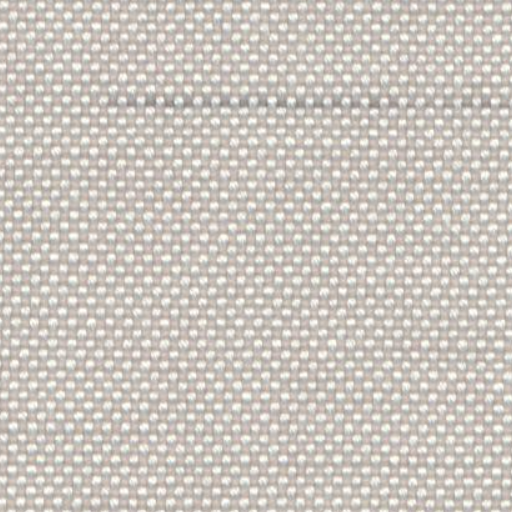WuZi: (100, 83, 498, 122)
